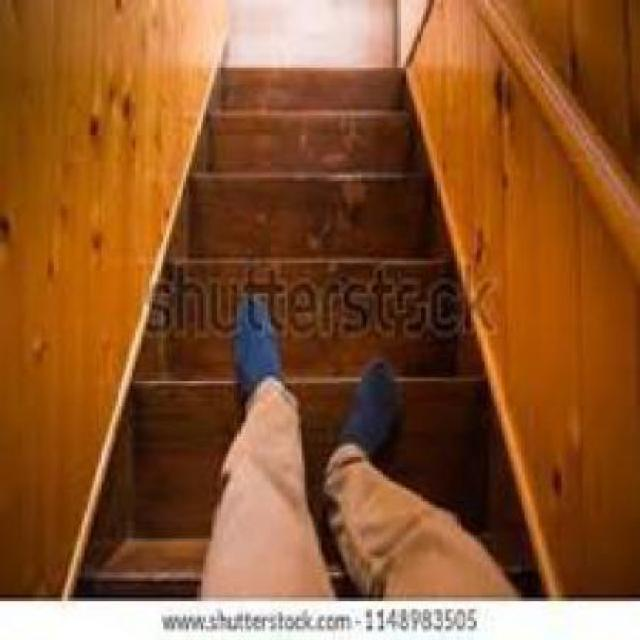stair: (122, 229, 485, 432)
